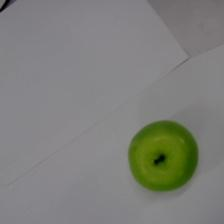green: (128, 121, 198, 191)
